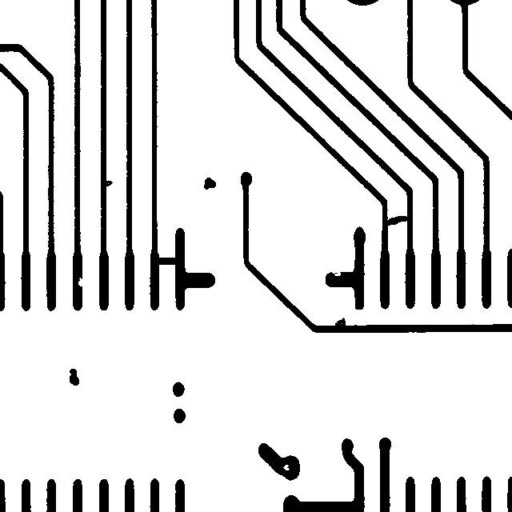copper: (62, 361, 86, 393), (196, 170, 223, 197)
mousebite: (324, 262, 348, 283), (70, 270, 91, 294)
pin-hole: (275, 457, 297, 478)
short: (378, 208, 417, 233), (143, 250, 185, 272)
spur: (326, 310, 353, 336), (96, 172, 120, 194)
